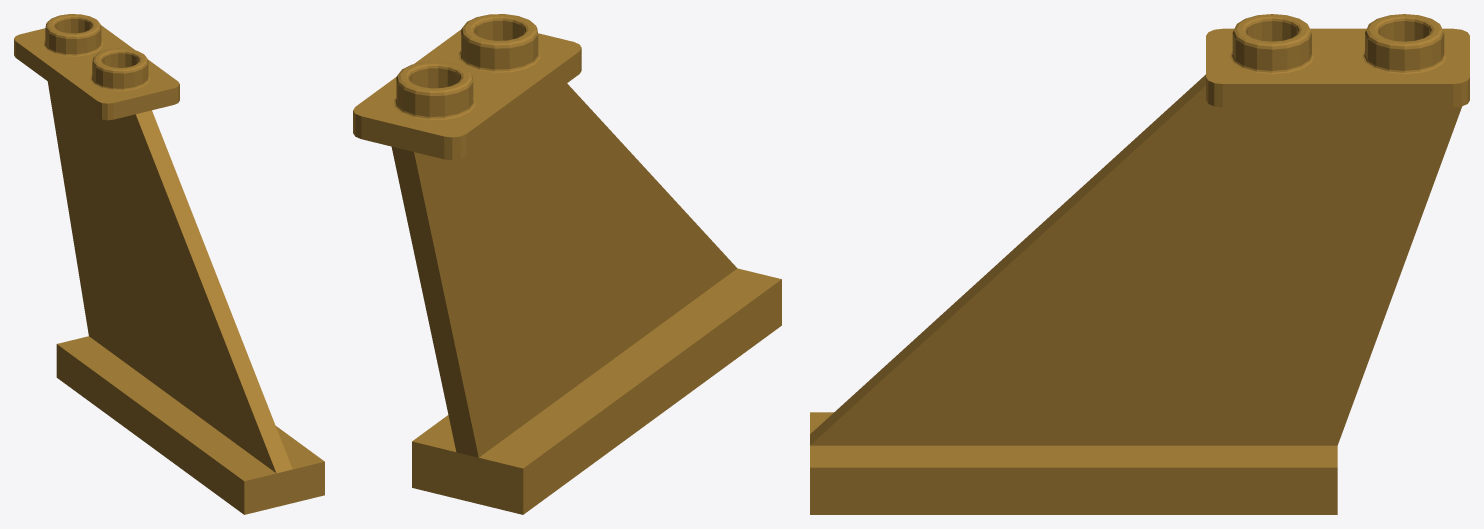
File: 2340 Rudder 1x4x3.dae
3 renders of one model, left to right at view 1: azimuth 30°, elevation 25°; view 2: azimuth 150°, elevation 25°; view 3: azimuth 270°, elevation 25°, orthographic. The views are drawn at different scales.
Parts seen in each view (by area): view 1: Part.0; view 2: Part.0; view 3: Part.0.
Boxes of the visible parts, x1,y1,x2,y2 form: Part.0: (14,14,324,514); Part.0: (353,14,781,514); Part.0: (810,14,1469,514).
Bounding box in the file's own units: 7.92 × 30.58 × 39.92.
